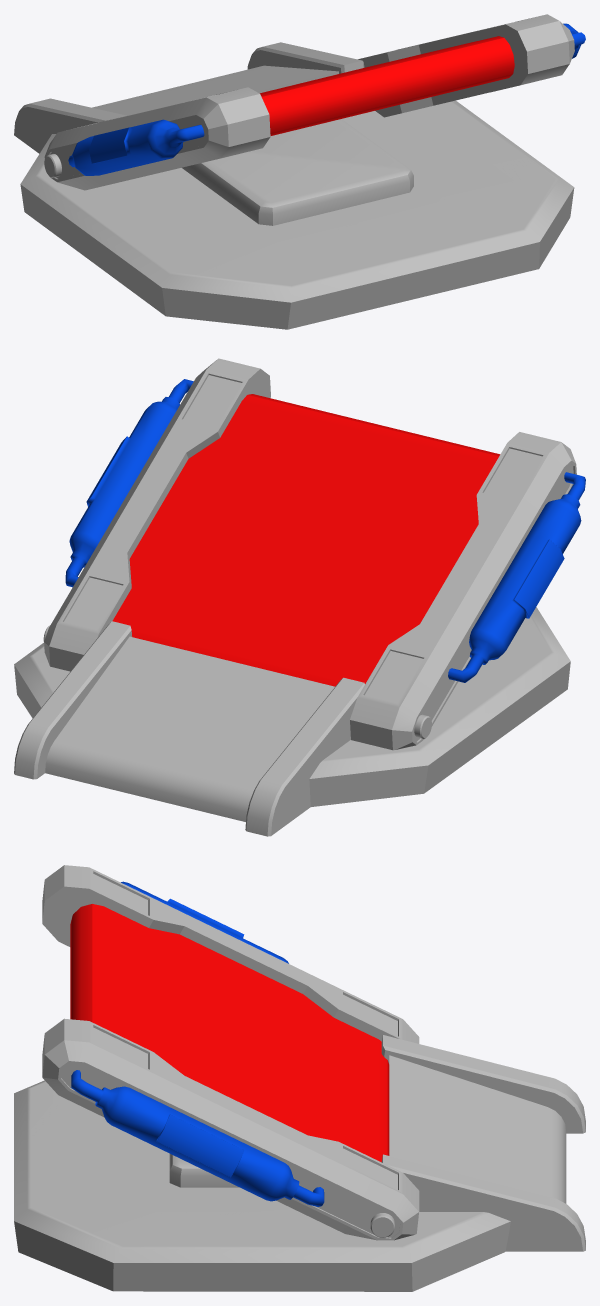
Rendered from jump pad.fbx.
The picture shows the model from 3 angles, top to bottom: view 1: azimuth 30°, elevation 25°; view 2: azimuth 150°, elevation 25°; view 3: azimuth 270°, elevation 25°; orthographic projection. The views are drawn at different scales.
Parts seen in each view (by area): view 1: polySurface15; view 2: polySurface15; view 3: polySurface15.
Part boxes in pixels (bbox=[...]): polySurface15: bbox=[14, 14, 585, 329]; polySurface15: bbox=[14, 358, 585, 836]; polySurface15: bbox=[14, 865, 585, 1291].
Bounding box in the file's own units: 252 × 122 × 271.
